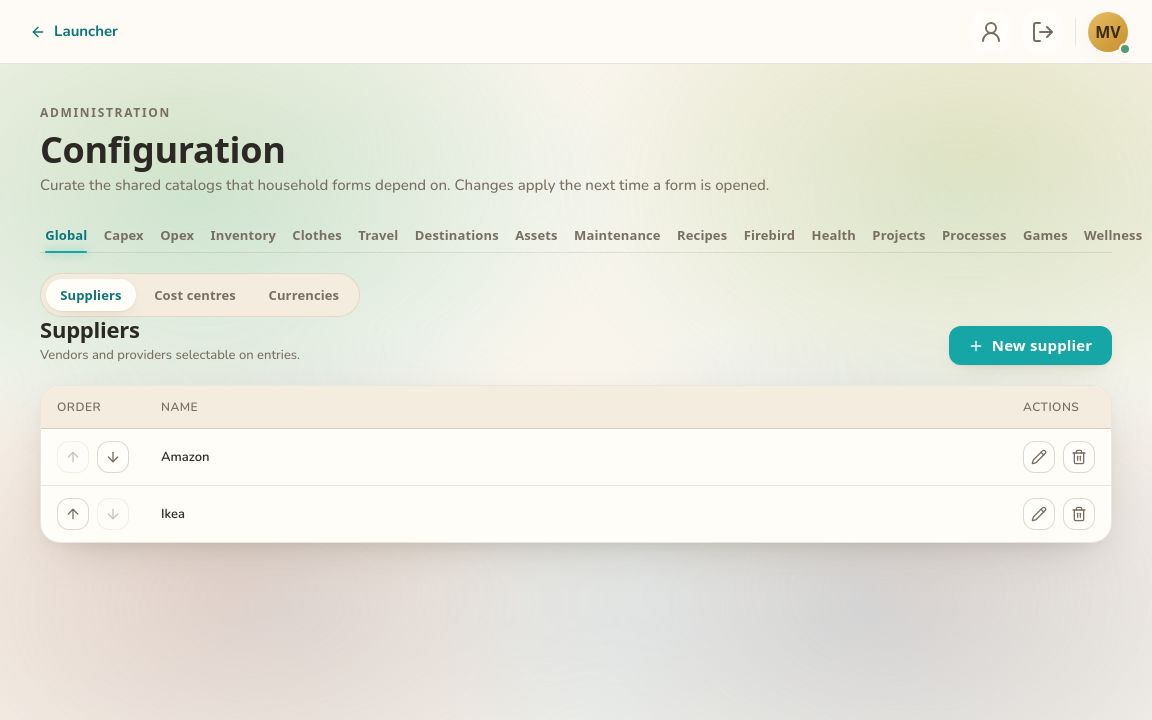
Test: Configuration navigation and states › switches Global tabs and shows the currency code column
Check: the text "Amazon" is shown, box [145,429,1007,486]
Click the tab "Currencies". click: (304, 295)
box: [254,279,354,311]
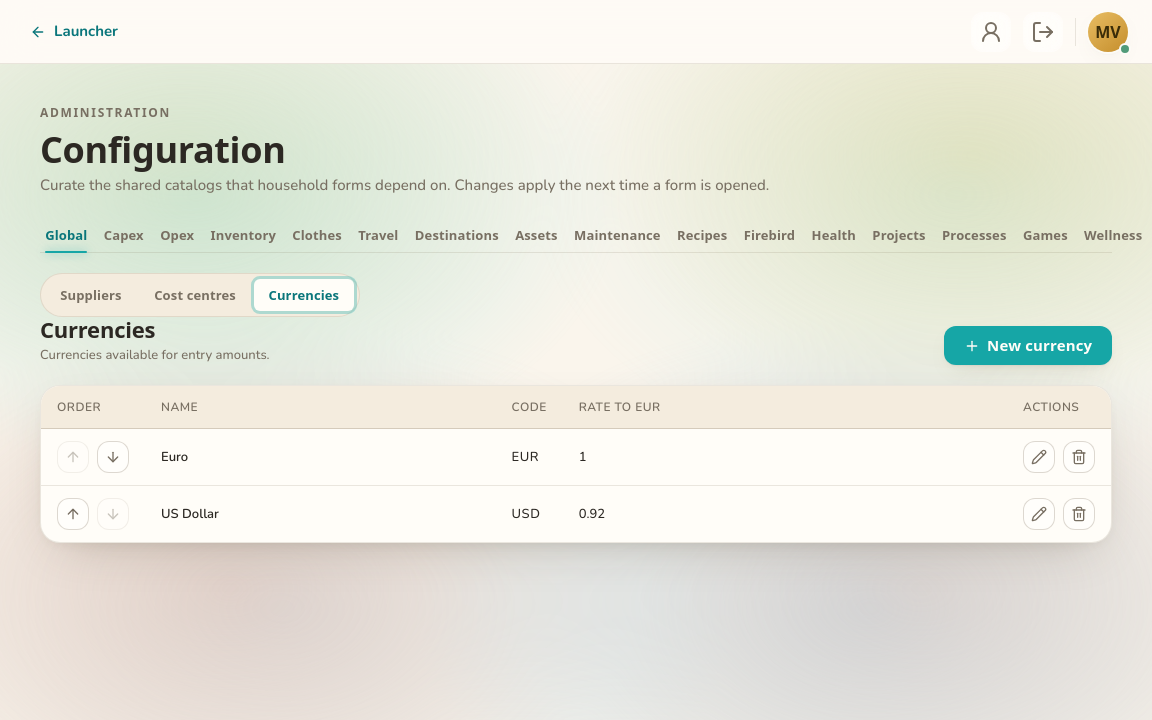
Check: the text "Euro" is shown, box [145,429,496,486]
Check: the column heading "Code" is shown, box [496,386,563,429]
Check: the text "EUR" is shown, box [496,429,563,486]
